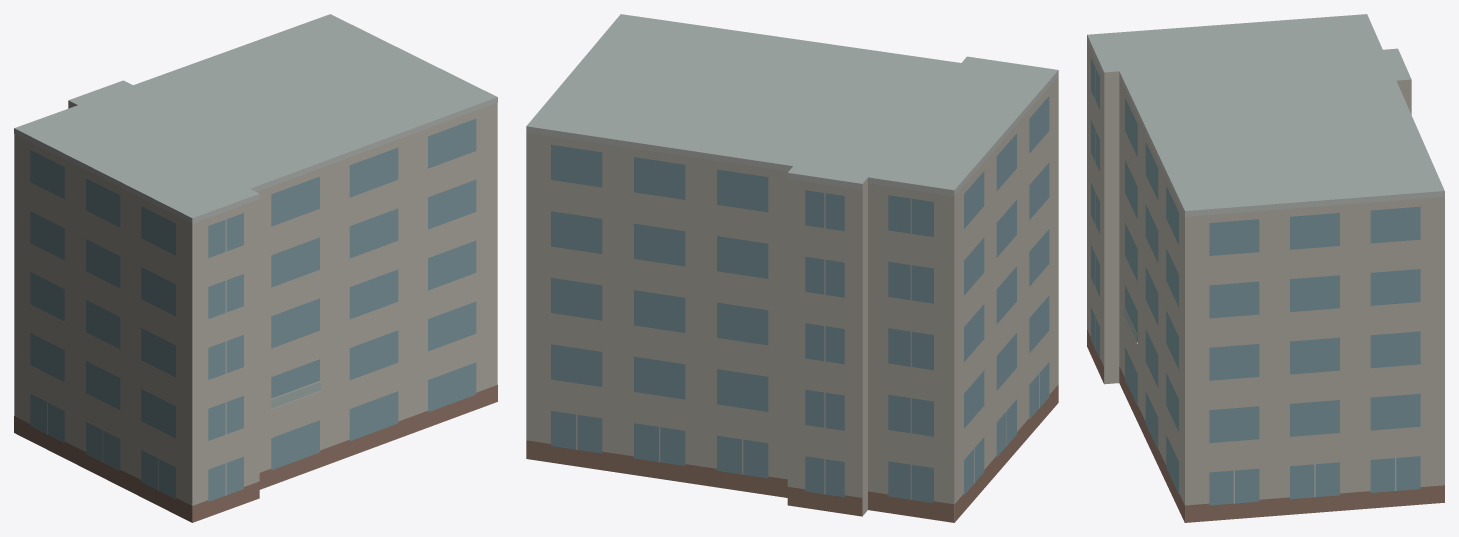
Rendered from survey-upis-32890608.glb.
3 views of the same model, side by side, from view 1: azimuth 30°, elevation 25°; view 2: azimuth 150°, elevation 25°; view 3: azimuth 270°, elevation 25° (orthographic). The views are drawn at different scales.
Visible parts, largest first — view 1: survey-upis-32890608.tmp; view 2: survey-upis-32890608.tmp; view 3: survey-upis-32890608.tmp.
Part boxes in pixels (x1,y1,x2,y2): survey-upis-32890608.tmp: [14, 14, 497, 522]; survey-upis-32890608.tmp: [526, 14, 1058, 522]; survey-upis-32890608.tmp: [1087, 14, 1444, 522].
Bounding box in the file's own units: 18.18 × 13.4 × 13.94.
